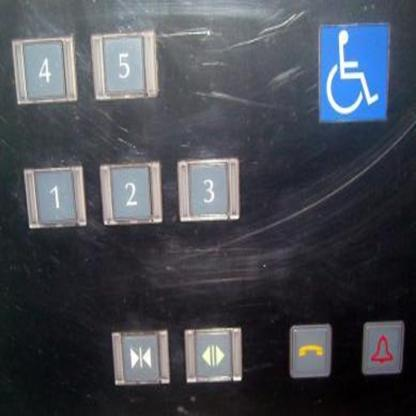1: (21, 162, 87, 230)
2: (98, 158, 162, 228)
3: (176, 155, 241, 222)
4: (10, 33, 78, 107)
5: (89, 29, 160, 104)
CH: (318, 22, 389, 121)
alarm: (362, 318, 404, 375)
call: (288, 321, 331, 378)
close: (110, 326, 172, 386)
open: (183, 324, 243, 382)
